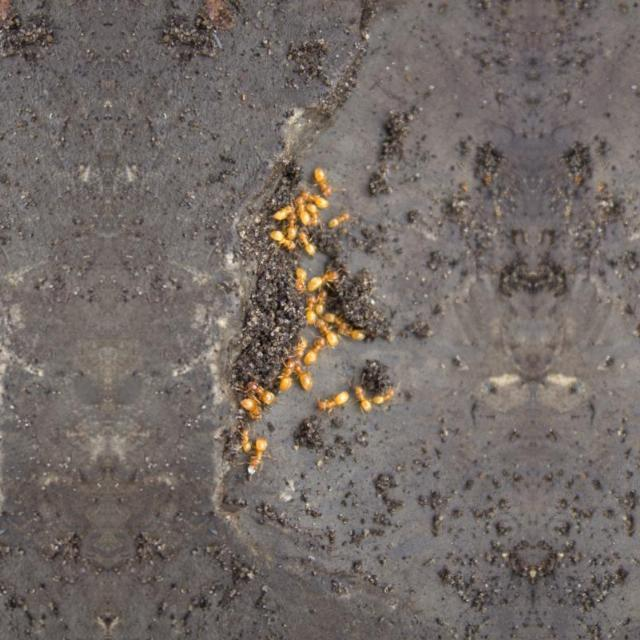Lasius: (242, 371, 282, 414), (298, 173, 334, 210), (311, 384, 351, 412), (246, 438, 270, 484), (311, 261, 347, 289), (312, 279, 338, 317), (312, 314, 336, 354), (372, 377, 406, 405), (351, 374, 373, 416), (234, 388, 260, 422), (265, 223, 295, 251), (303, 334, 329, 366), (317, 162, 341, 196), (326, 203, 356, 230), (272, 356, 292, 390), (270, 192, 294, 220), (284, 331, 306, 361), (324, 308, 351, 332), (282, 208, 300, 242), (290, 361, 310, 391), (296, 225, 318, 252), (342, 322, 368, 343), (234, 428, 256, 450), (304, 197, 320, 225), (296, 193, 310, 219), (294, 261, 306, 291), (302, 291, 312, 327)
